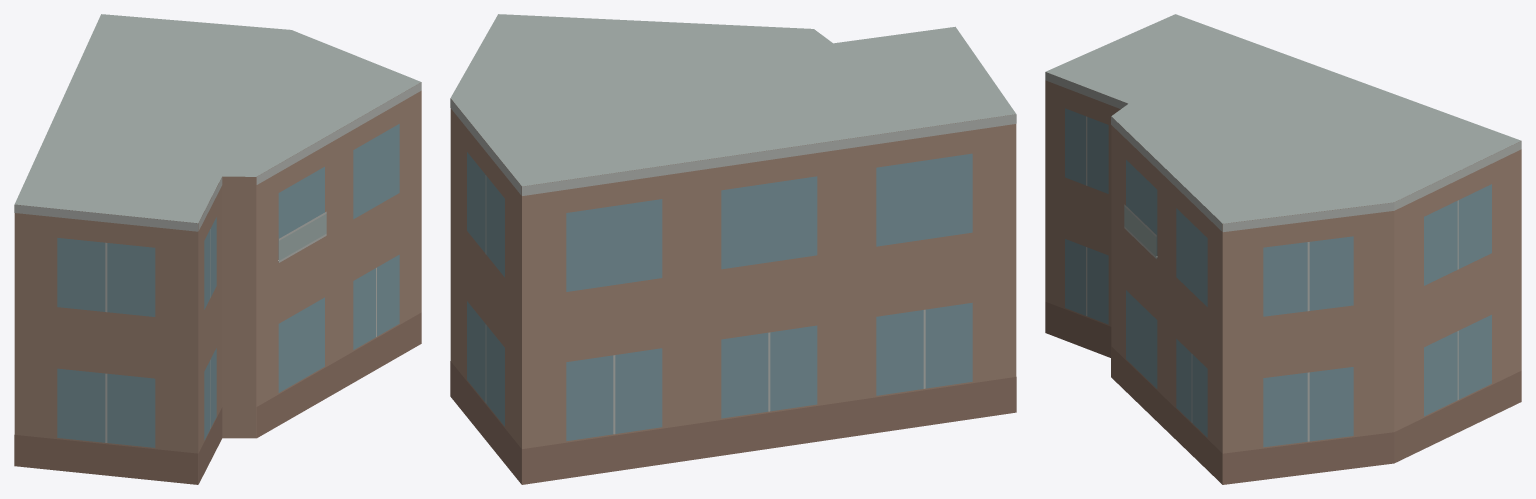
File: survey-upis-32983665.glb
3 renders of one model, left to right at view 1: azimuth 30°, elevation 25°; view 2: azimuth 150°, elevation 25°; view 3: azimuth 270°, elevation 25°, orthographic. The views are drawn at different scales.
Parts seen in each view (by area): view 1: survey-upis-32983665.tmp; view 2: survey-upis-32983665.tmp; view 3: survey-upis-32983665.tmp.
Boxes of the visible parts, <box> form: survey-upis-32983665.tmp: <box>14,14,421,484</box>; survey-upis-32983665.tmp: <box>450,14,1016,484</box>; survey-upis-32983665.tmp: <box>1045,14,1521,484</box>.
Bounding box in the file's own units: 12.93 × 7.5 × 12.41.
